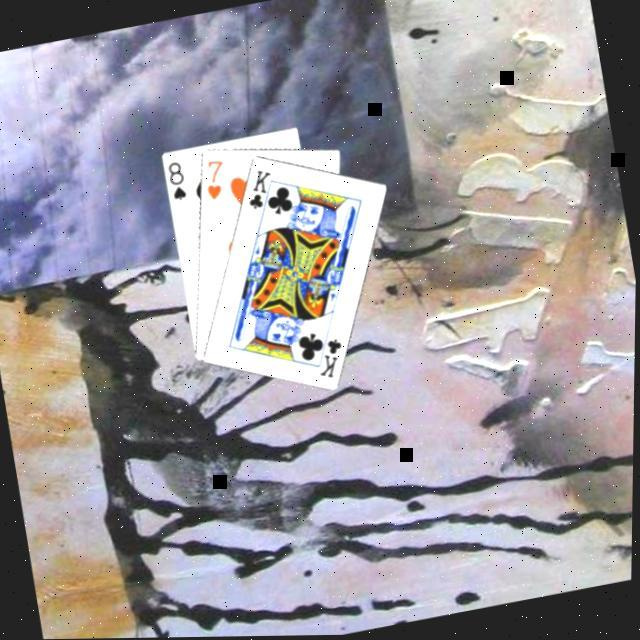7H: (196, 157, 231, 207)
8S: (162, 160, 190, 207)
KC: (306, 328, 350, 386), (237, 166, 281, 223)
